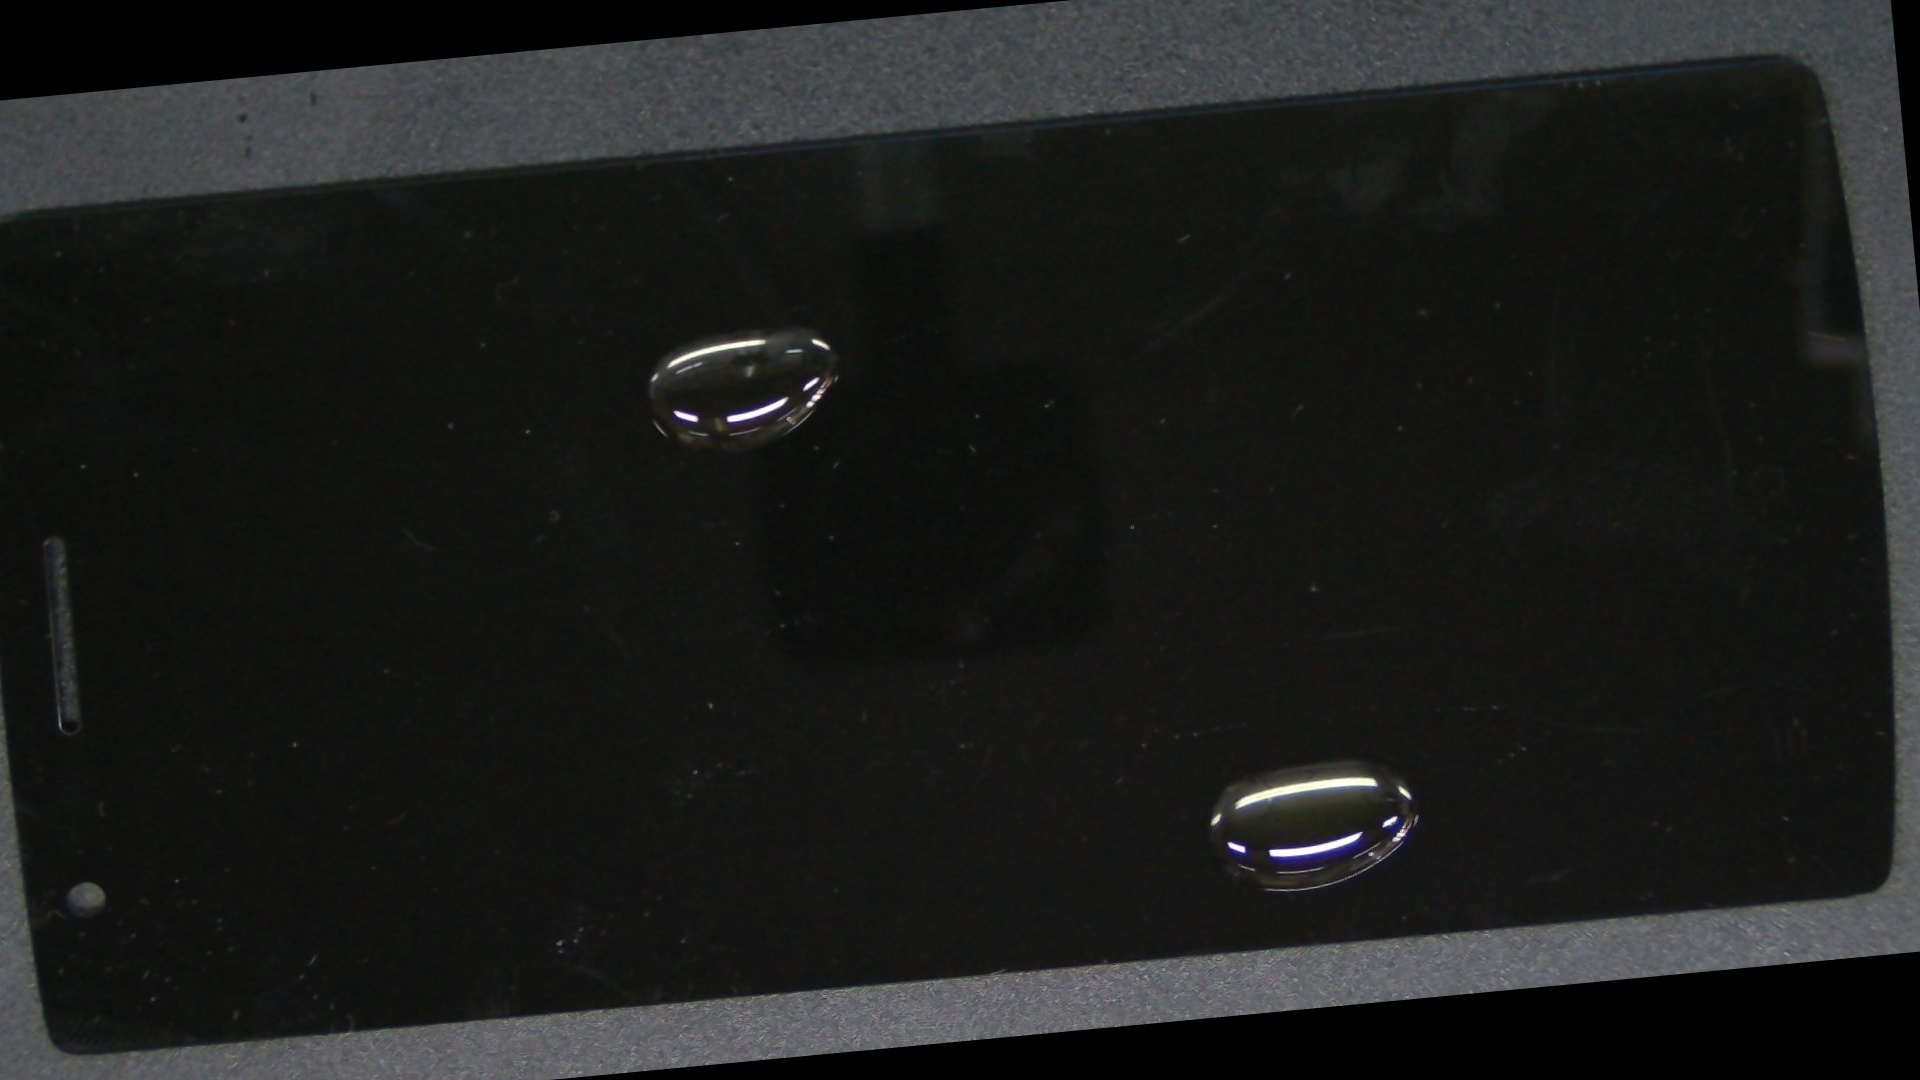oil: (576, 314, 1920, 1072), (294, 144, 1168, 521)
